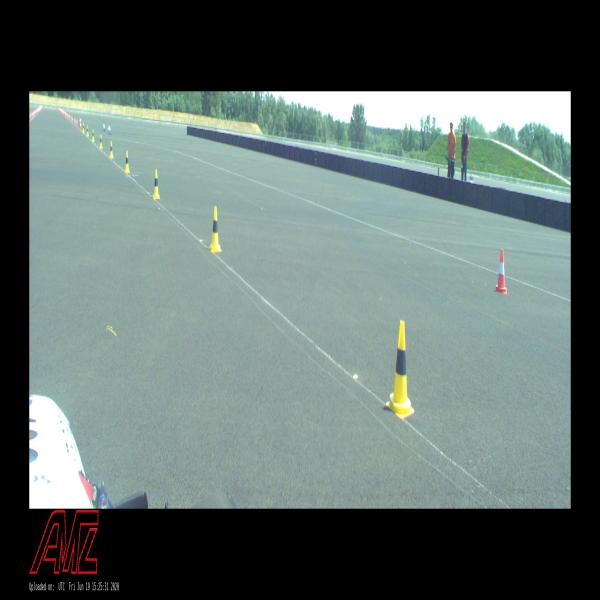large_orange_cone: (79, 116, 82, 129)
orange_cone: (496, 249, 507, 294), (76, 118, 78, 127), (74, 118, 76, 124)
yellow_cone: (386, 320, 415, 418), (210, 206, 222, 252), (153, 169, 160, 199), (125, 150, 130, 172), (110, 141, 114, 158), (99, 133, 103, 148), (91, 128, 95, 142), (86, 126, 89, 136), (82, 122, 85, 132)
